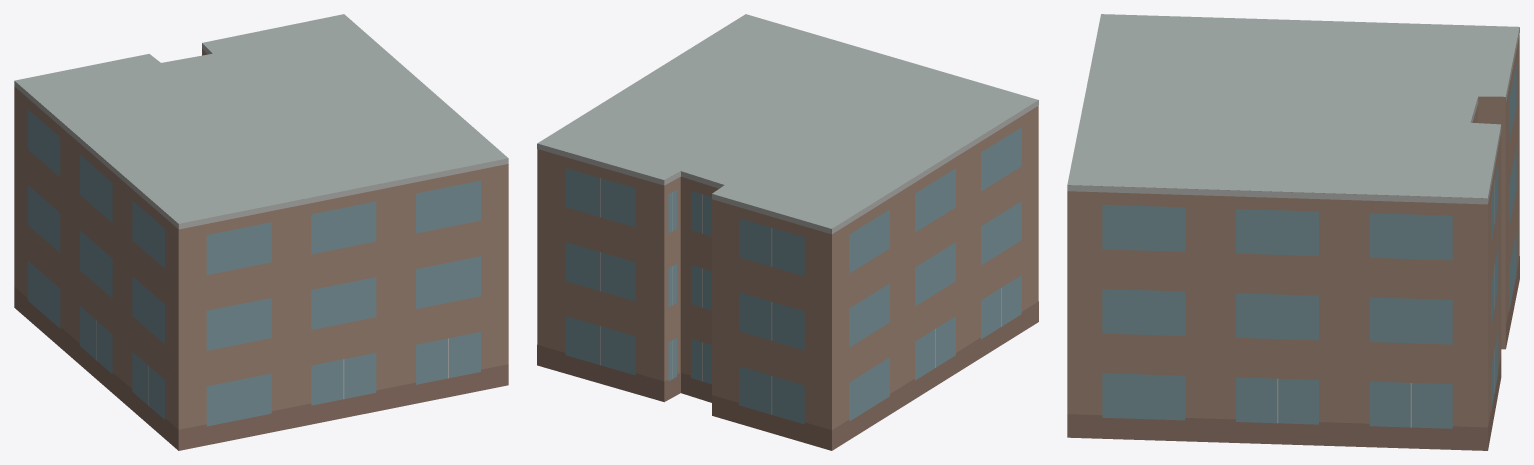
Rendered from survey-upis-32527448.glb.
3 renders of one model, left to right at view 1: azimuth 30°, elevation 25°; view 2: azimuth 150°, elevation 25°; view 3: azimuth 270°, elevation 25°, orthographic. The views are drawn at different scales.
Visible parts, largest first — view 1: survey-upis-32527448.tmp; view 2: survey-upis-32527448.tmp; view 3: survey-upis-32527448.tmp.
Part boxes in pixels (box(x1,y1,x2,y2)): survey-upis-32527448.tmp: box(14, 14, 508, 450); survey-upis-32527448.tmp: box(537, 14, 1038, 450); survey-upis-32527448.tmp: box(1067, 14, 1519, 450).
Size of the model in its own units: 15.57 by 9.95 by 16.16.
